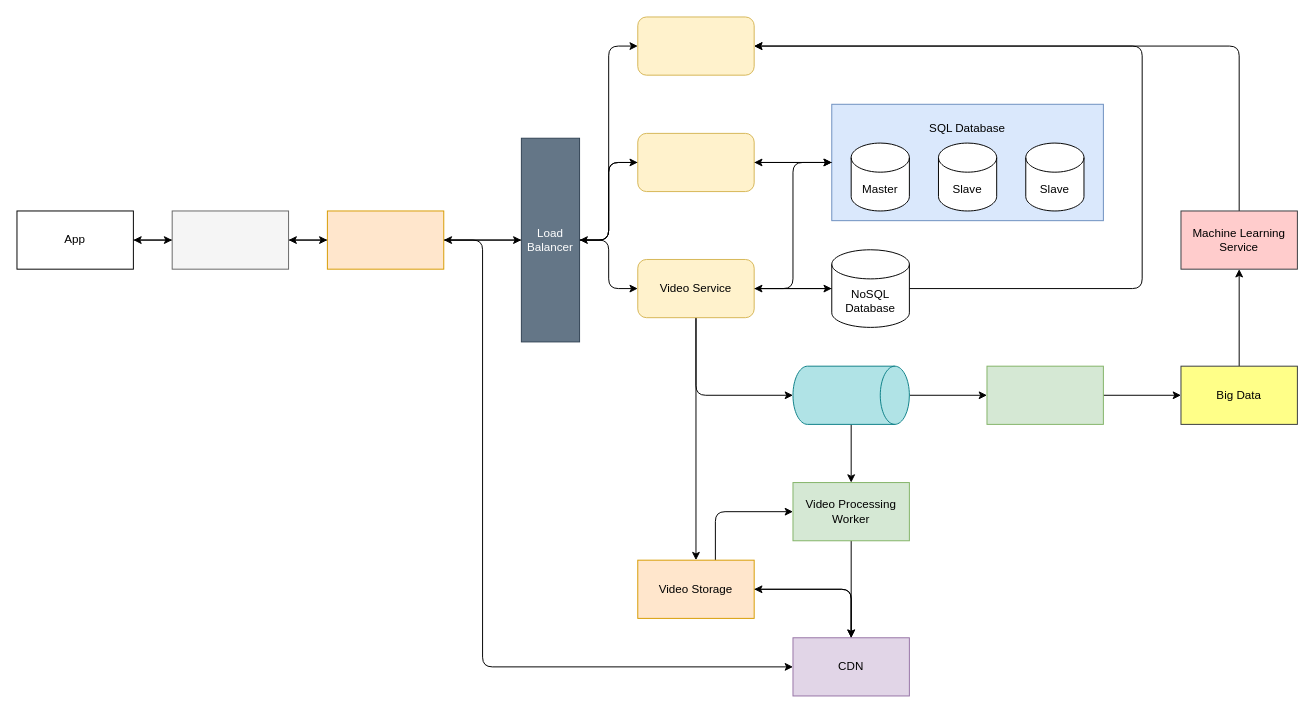
Some shapes in this 1314 by 713 pixel diagram are drawn without their labels. The shapes that lost their labels are listed below. From the top down, each one's centre as x and y in pixels, then its label:
At (x=695, y=45): "Recommendation Service".
At (x=695, y=162): "User Service".
At (x=230, y=239): "API Gateway".
At (x=385, y=239): "Cache".
At (x=850, y=394): "Queue".
At (x=1044, y=394): "Video Related Data Consumer".
